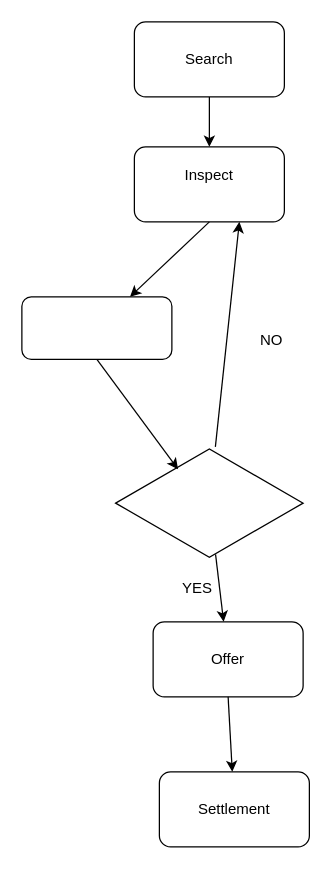
Some shapes in this 331 by 869 pixel diagram are drawn without their labels. Each missing label, with the box of its shape:
Finance (Bank Check): (21, 296, 172, 359)
loan approve?: (114, 446, 303, 559)
